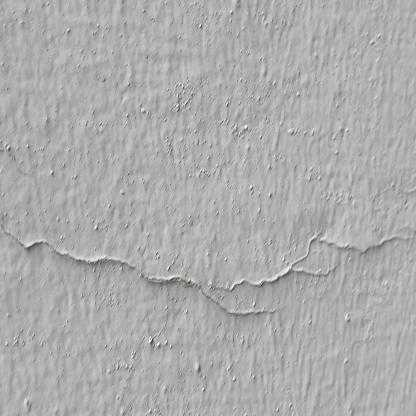crack: (2, 220, 275, 320), (220, 229, 406, 294)
